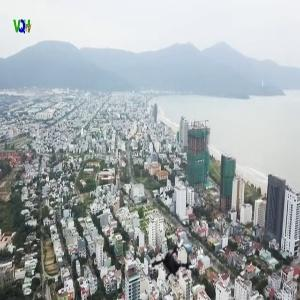drone: (144, 235, 201, 292)
